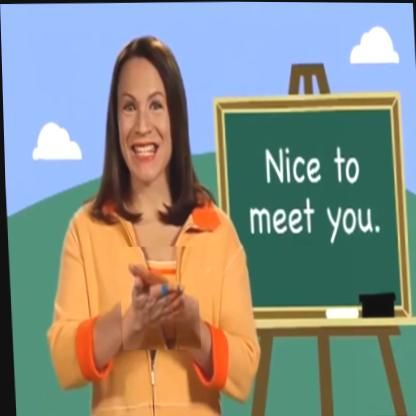NiceToMeetYou: (116, 245, 199, 350)
